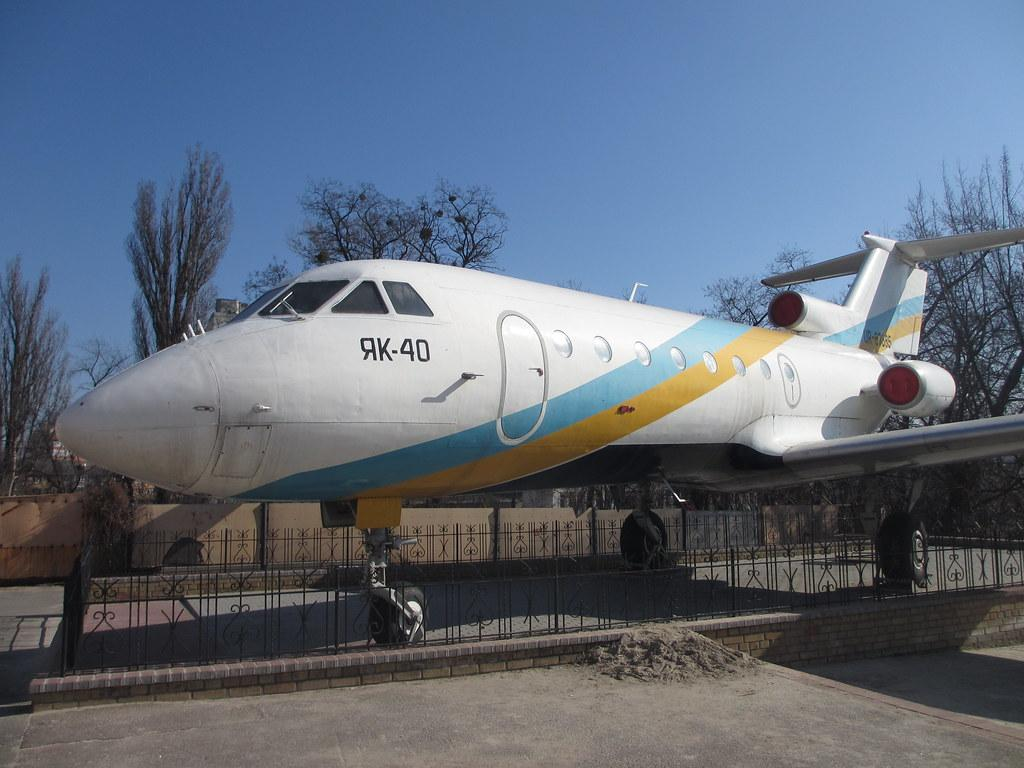plane: (54, 227, 1023, 649)
